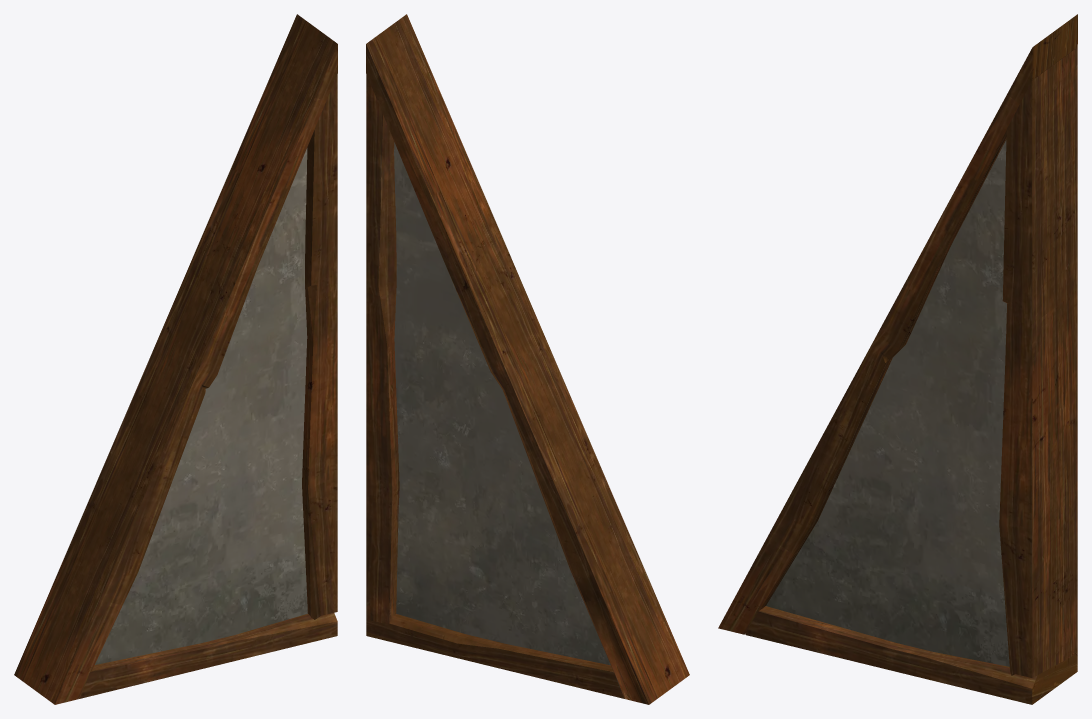
The picture shows the model from 3 angles, left to right: view 1: azimuth 30°, elevation 25°; view 2: azimuth 150°, elevation 25°; view 3: azimuth 330°, elevation 25°; orthographic projection. The views are drawn at different scales.
Parts seen in each view (by area): view 1: SM_BB_T2_Large_LOD0; view 2: SM_BB_T2_Large_LOD0; view 3: SM_BB_T2_Large_LOD0.
Part boxes in pixels (<box>): SM_BB_T2_Large_LOD0: <box>14,14,337,704</box>; SM_BB_T2_Large_LOD0: <box>366,14,689,704</box>; SM_BB_T2_Large_LOD0: <box>718,14,1077,704</box>.
Size of the model in its own units: 1.52 by 3.04 by 0.3799.
2 materials, 2 textured.
